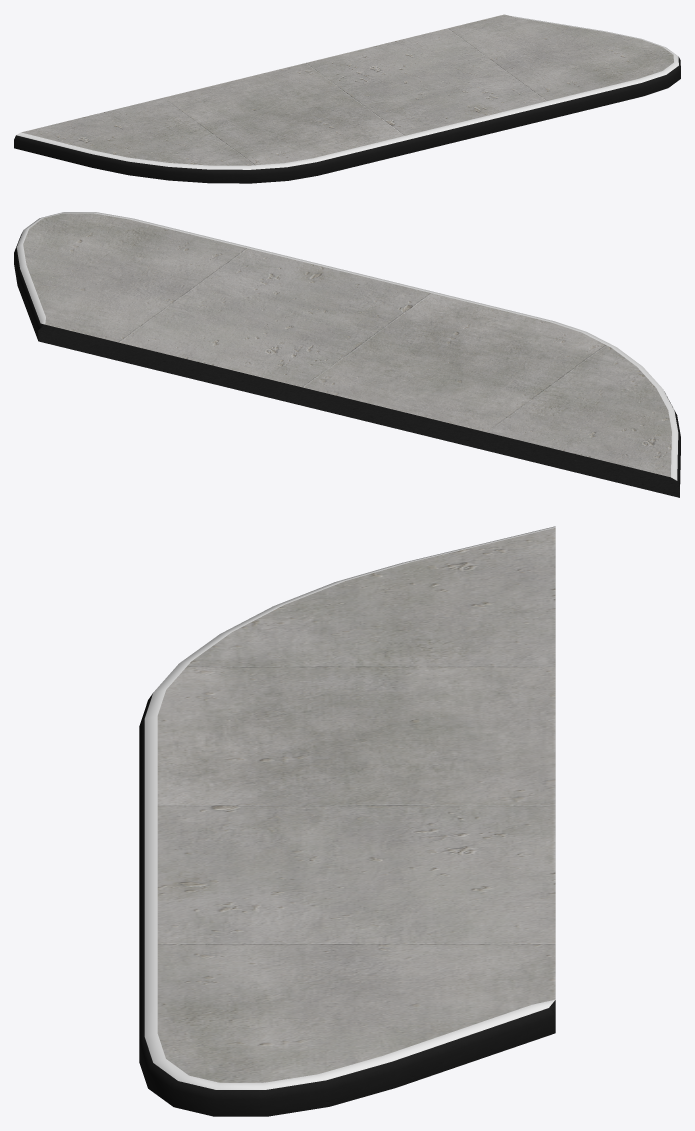
File: Shelf.fbx
The picture shows the model from 3 angles, top to bottom: view 1: azimuth 30°, elevation 25°; view 2: azimuth 150°, elevation 25°; view 3: azimuth 270°, elevation 25°; orthographic projection. The views are drawn at different scales.
Visible parts, largest first — view 1: Shelf; view 2: Shelf; view 3: Shelf.
Part boxes in pixels (box(x1,y1,x2,y2)): Shelf: box(14, 14, 680, 183); Shelf: box(14, 212, 680, 497); Shelf: box(139, 526, 555, 1116).
Size of the model in its own units: 2.1 by 0.0491 by 0.6509.
